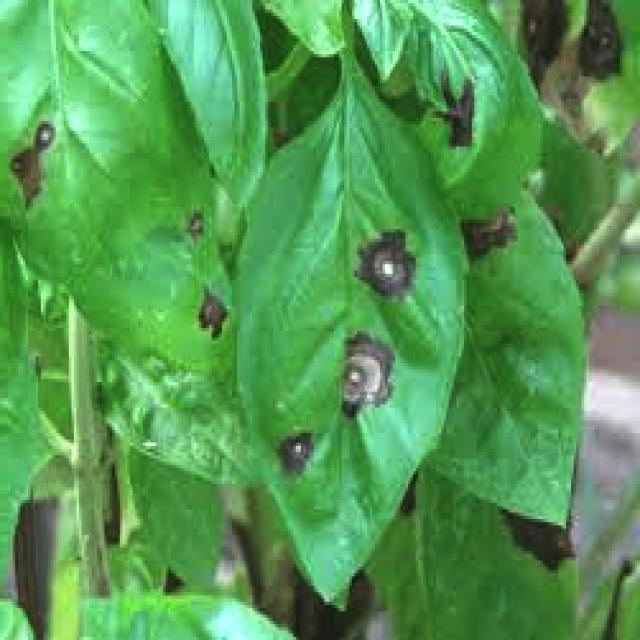Bercak Daun Serkospora: (230, 73, 473, 611)
